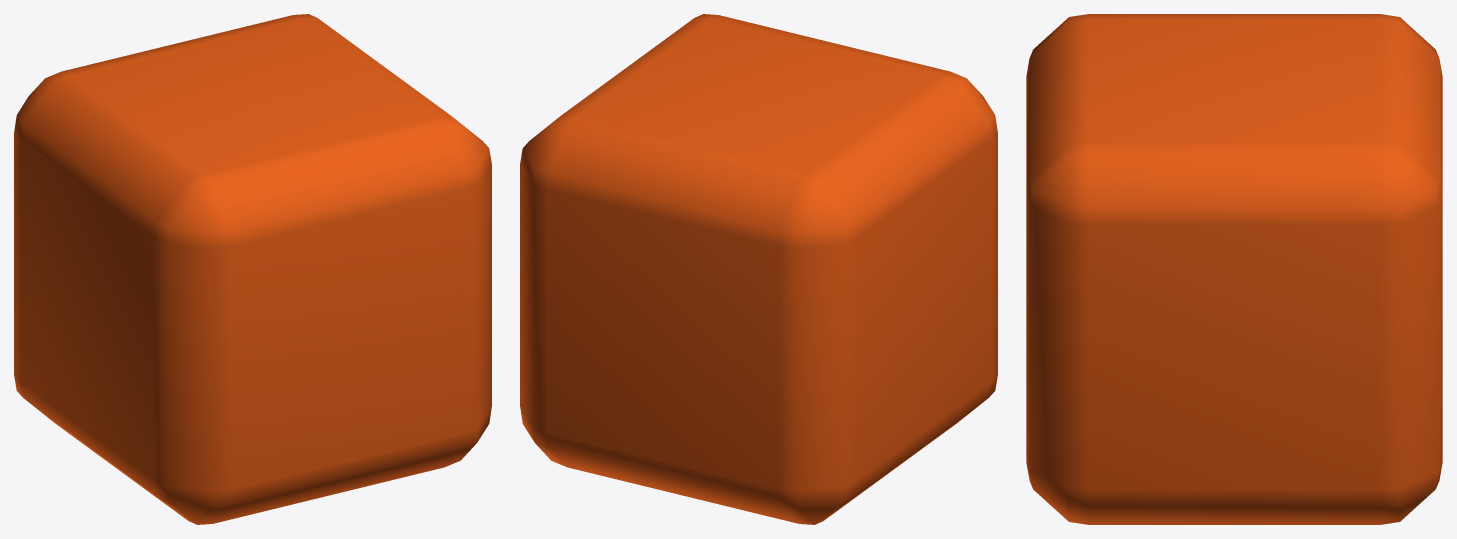
3 views of the same model, side by side, from view 1: azimuth 30°, elevation 25°; view 2: azimuth 150°, elevation 25°; view 3: azimuth 270°, elevation 25° (orthographic). The views are drawn at different scales.
Parts seen in each view (by area): view 1: BR; view 2: BR; view 3: BR.
Boxes of the visible parts, <box> form: BR: <box>14,14,491,524</box>; BR: <box>520,14,997,524</box>; BR: <box>1026,14,1442,524</box>.
Bounding box in the file's own units: 1 × 1 × 1.
